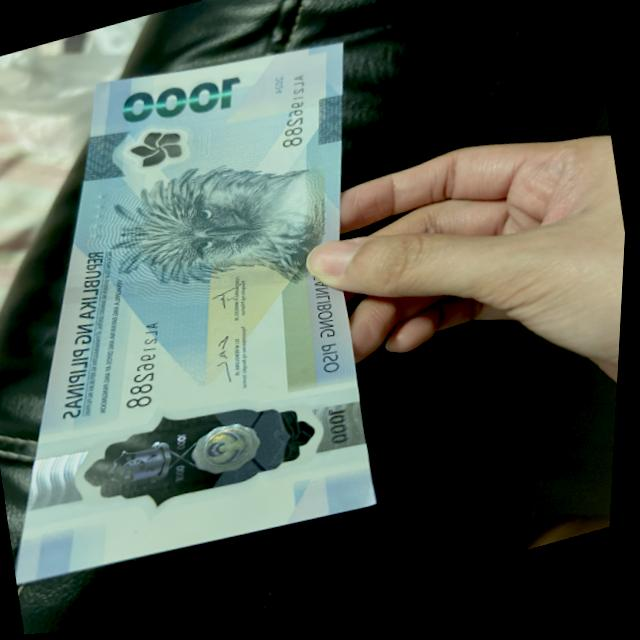clear_window: (67, 388, 343, 528)
eagle: (90, 149, 342, 314)
sampaguita: (130, 126, 194, 172)
